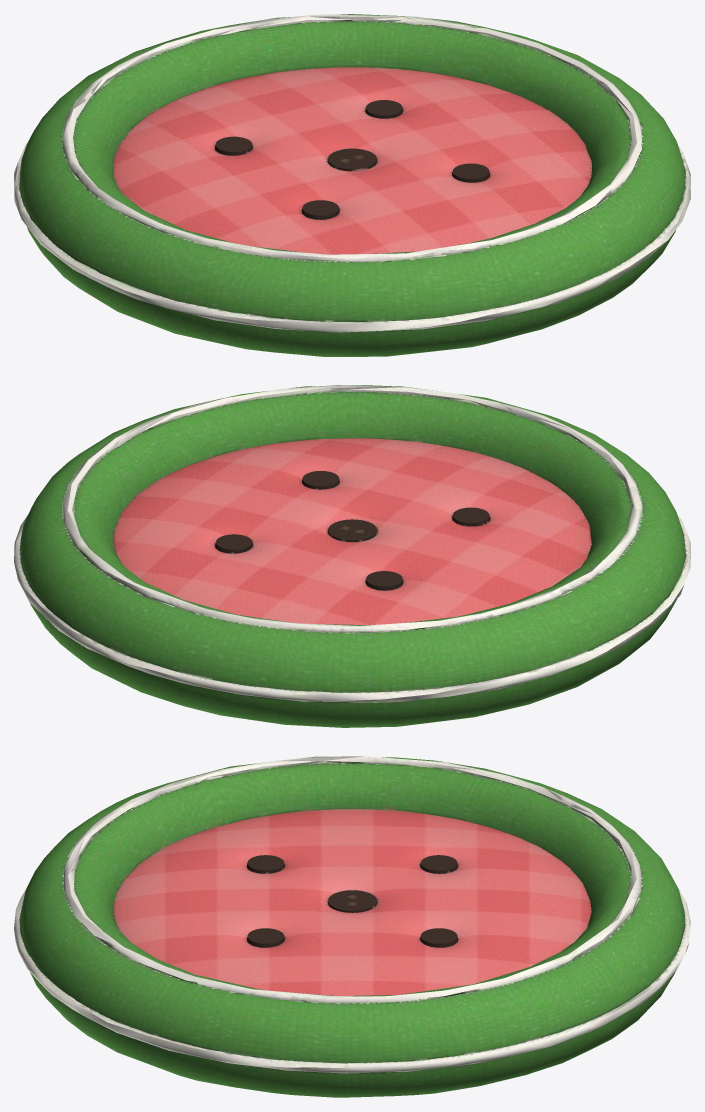
The model's file is melon_cushion.glb.
3 views of the same model, one above another, from view 1: azimuth 30°, elevation 25°; view 2: azimuth 150°, elevation 25°; view 3: azimuth 270°, elevation 25° (orthographic).
Visible parts, largest first — view 1: melon_cushion; view 2: melon_cushion; view 3: melon_cushion.
Boxes of the visible parts, box(x1,y1,x2,y2) form: melon_cushion: box(14, 14, 690, 356); melon_cushion: box(14, 385, 690, 727); melon_cushion: box(14, 756, 690, 1097).
Size of the model in its own units: 1.11 by 0.1714 by 1.11.
1 material, 1 textured.
